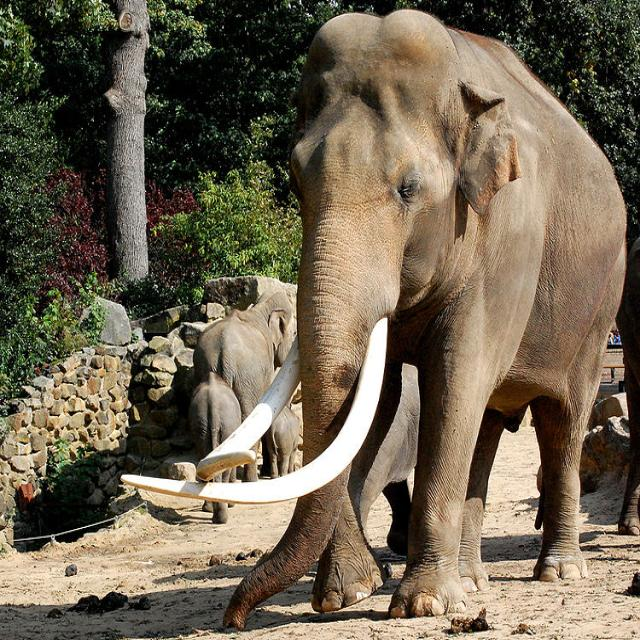Elephant: (249, 12, 630, 637)
